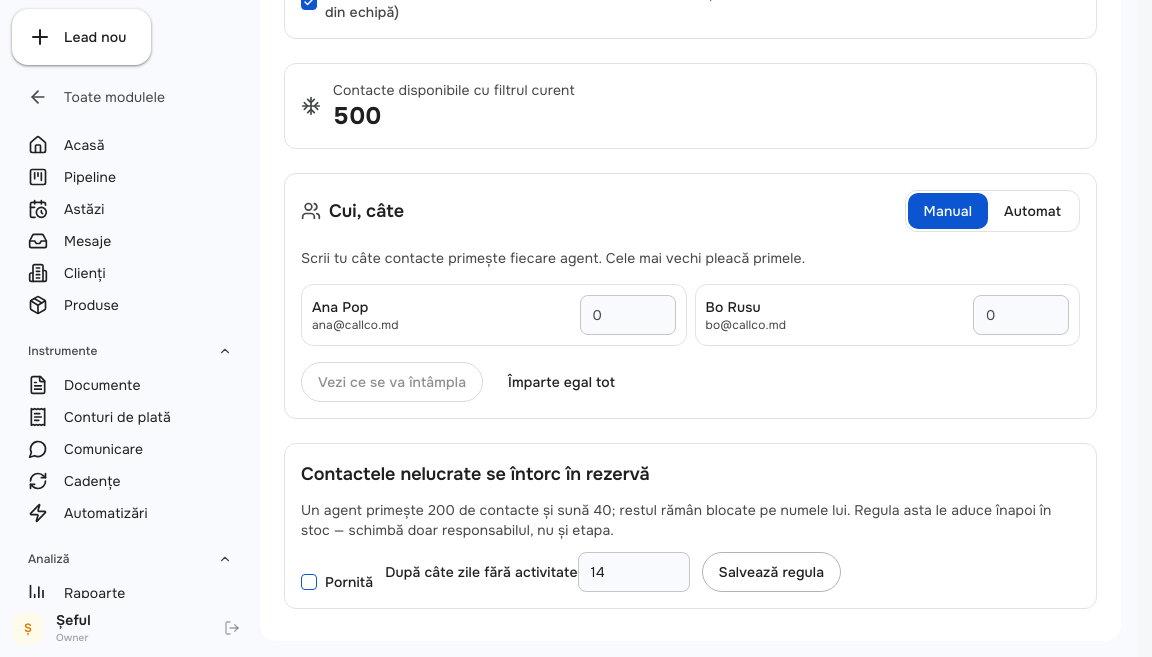
Test: Repartizarea pe loturi › [blocant] previzualizarea NU repartizează; butonul care scrie apare abia după ea
(page scrolled)
Step 1. Type "200" into the number field named "Câte contacte primește Ana Pop" → (628, 315), box [580,295,676,335]
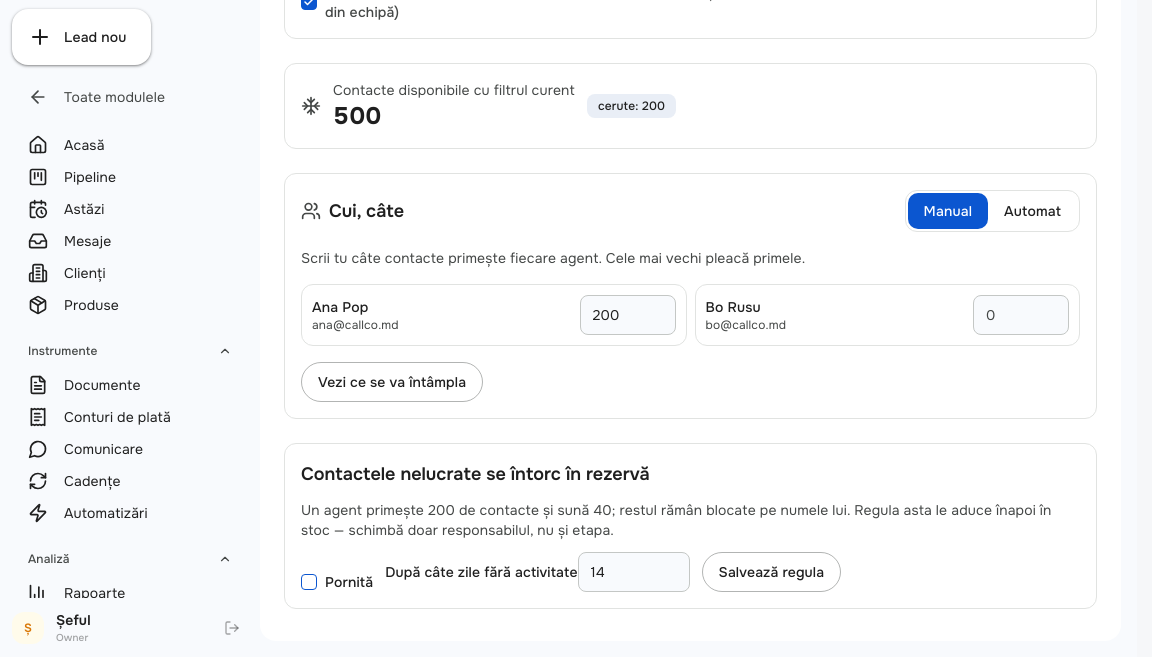
Expected: the button "Repartizează" is not shown
Step 2. Click the button "Vezi ce se va întâmpla" → (392, 382), box [301,362,483,402]
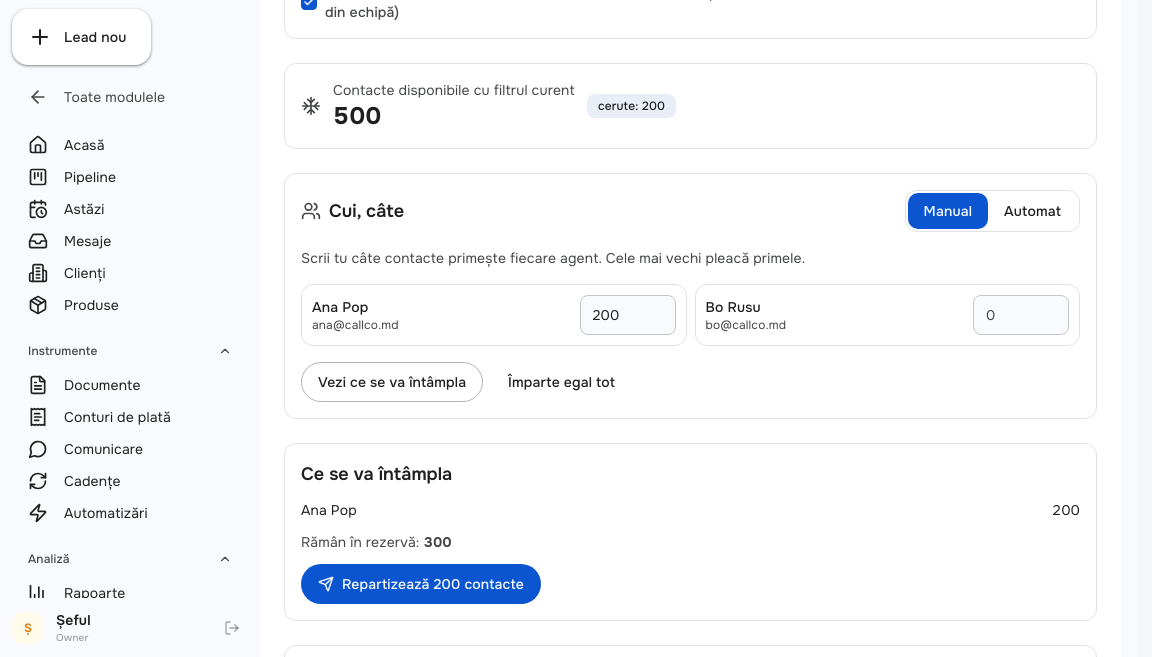
Now the button "Repartizează 200 contacte" is shown, box [301,564,541,604]
